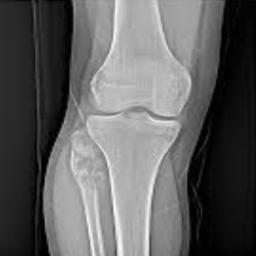cancer: (71, 130, 108, 192)
